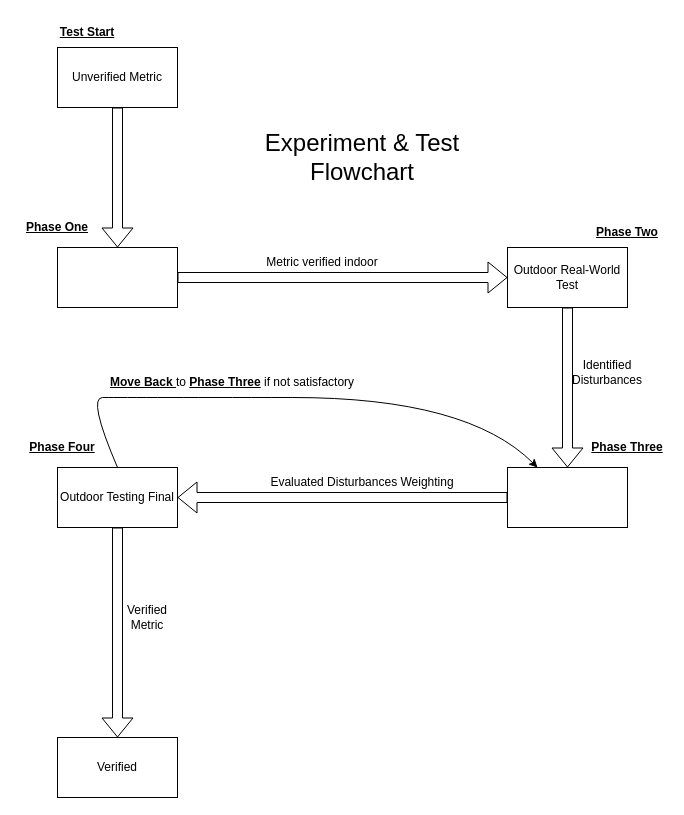
Some shapes in this 684 by 815 pixel diagram are drawn without their labels. The centre of each missing label's shape, as x and y in pixels:
Evaluation in Lab Setting: the point at 117,277
Isolated Disturbance Test Lab Setting: the point at 567,497
